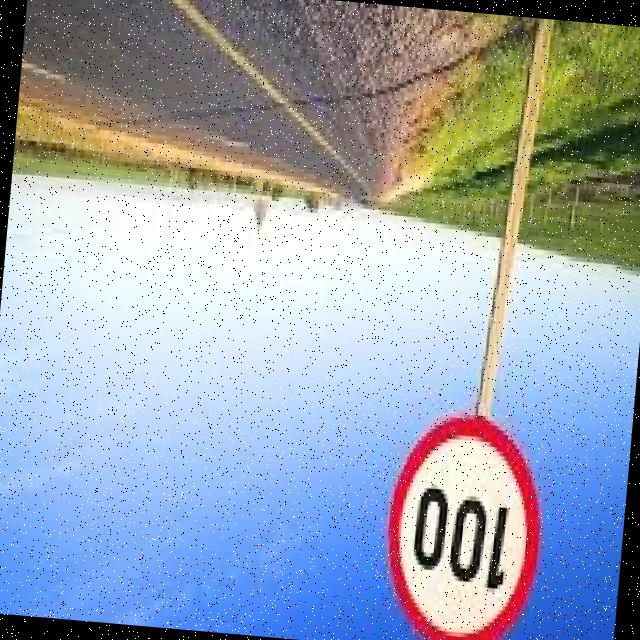speed_limit_100: (370, 403, 551, 640)
